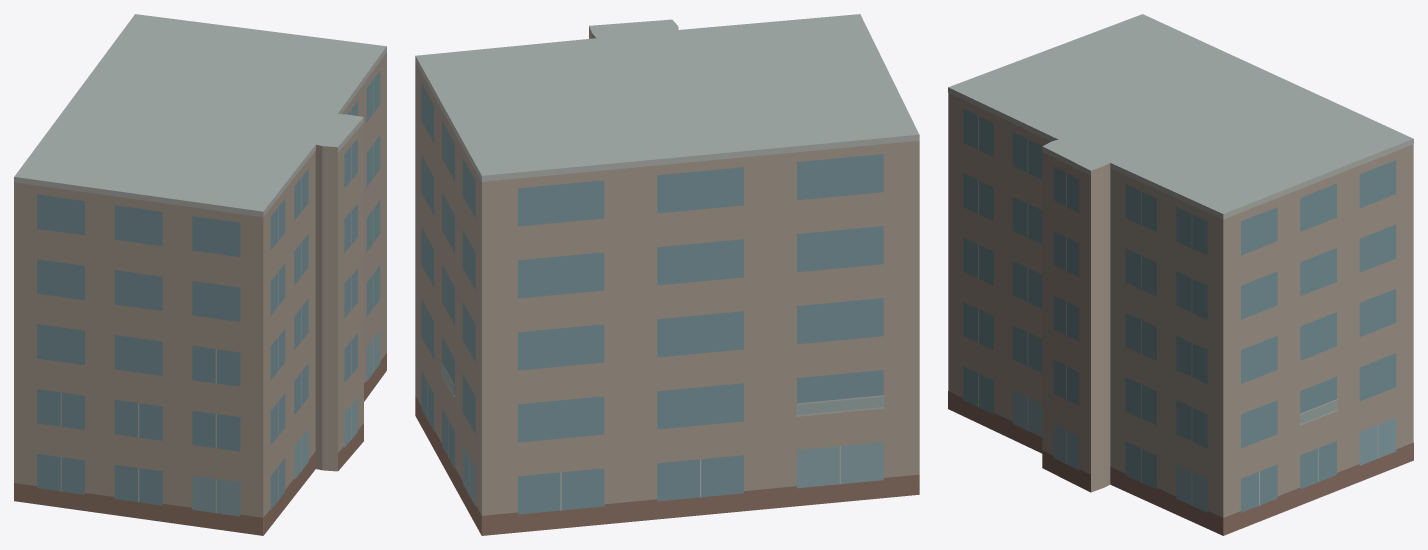
The model's file is survey-upis-32885928.glb.
3 renders of one model, left to right at view 1: azimuth 30°, elevation 25°; view 2: azimuth 150°, elevation 25°; view 3: azimuth 270°, elevation 25°, orthographic. The views are drawn at different scales.
Visible parts, largest first — view 1: survey-upis-32885928.tmp; view 2: survey-upis-32885928.tmp; view 3: survey-upis-32885928.tmp.
Boxes of the visible parts, x1=… form: survey-upis-32885928.tmp: x1=14, y1=14, x2=386, y2=535; survey-upis-32885928.tmp: x1=415, y1=14, x2=919, y2=535; survey-upis-32885928.tmp: x1=948, y1=14, x2=1413, y2=535.
Size of the model in its own units: 19.28 by 14.45 by 18.95.
